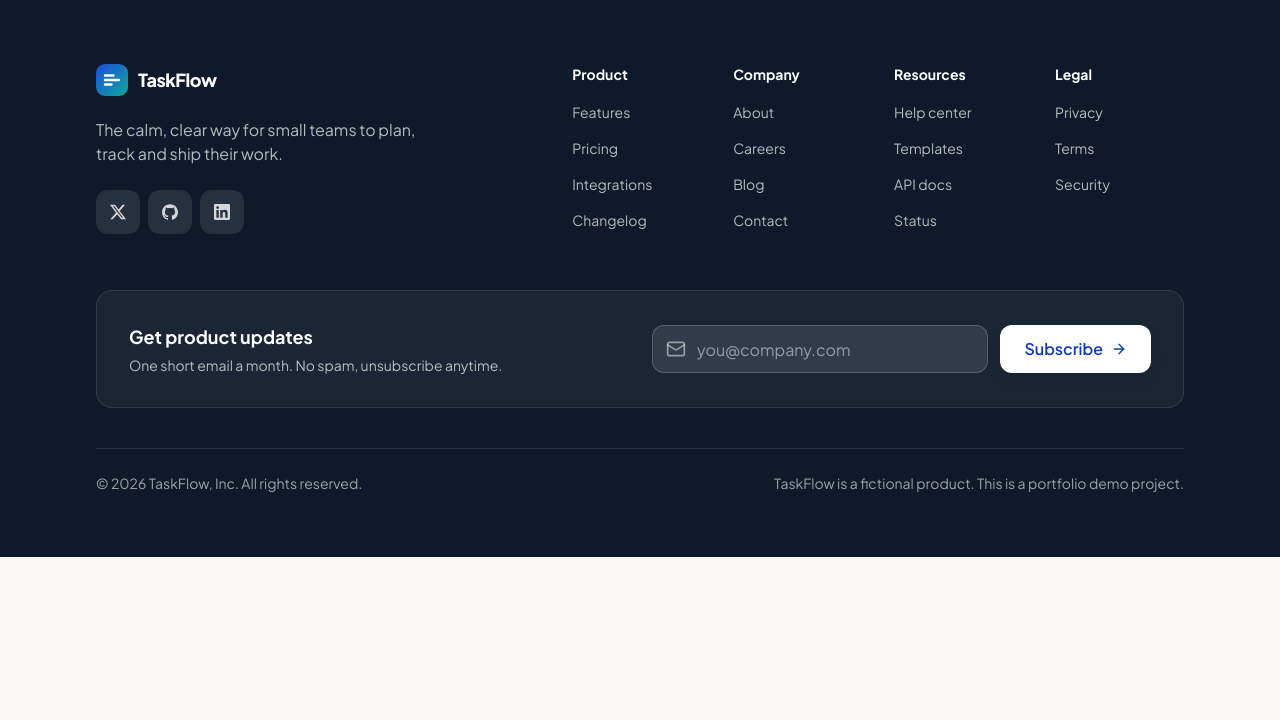
Footer › shows the newsletter success state
Type "jane@example.com" into the field named "Email for the newsletter". click: {"x": 820, "y": 349}
box: [652,325,988,373]
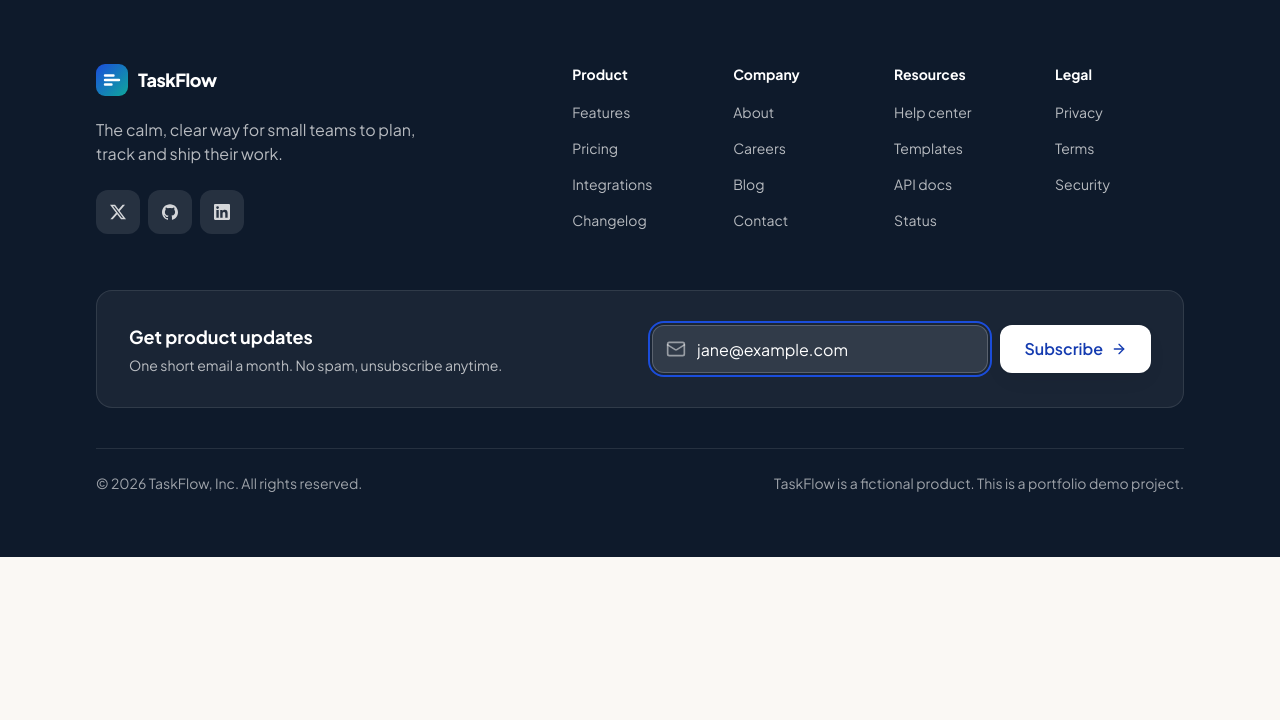
Click the button "Subscribe". click: {"x": 1076, "y": 349}
box: [1000,325,1151,373]
Wait 800 ms
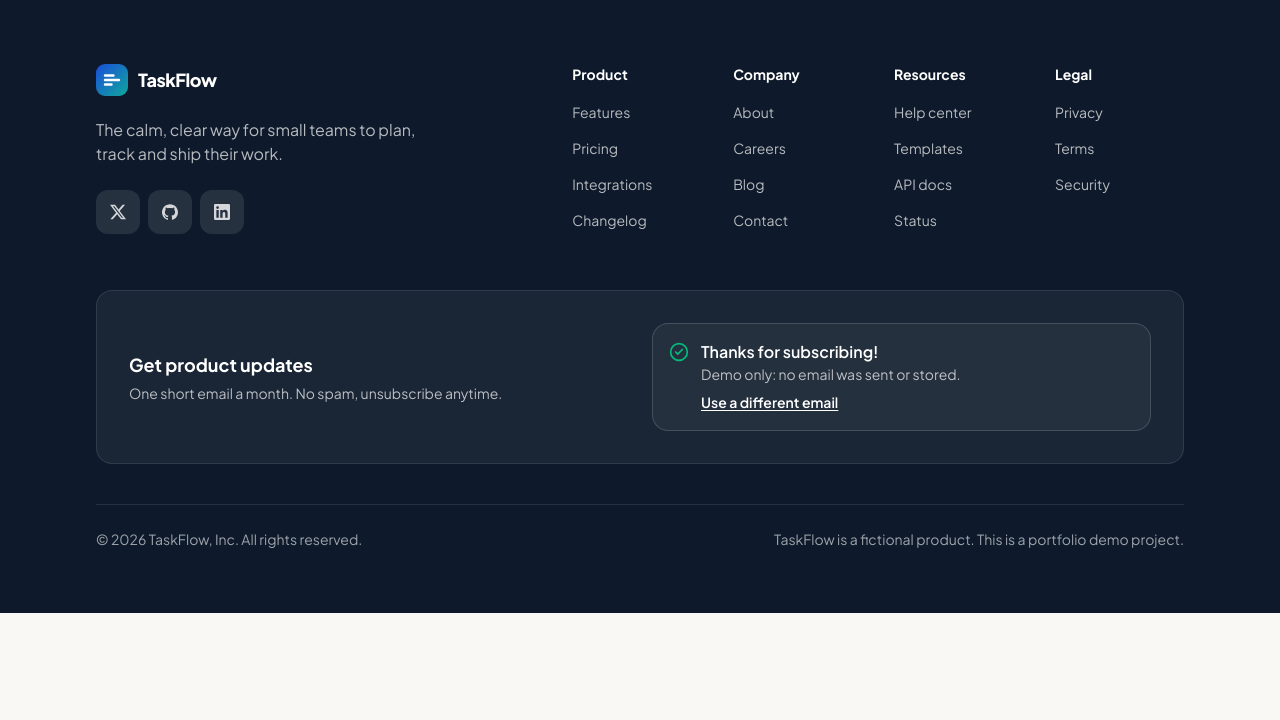
Check: the message shows "Thanks for subscribing!", box [701,341,879,362]
